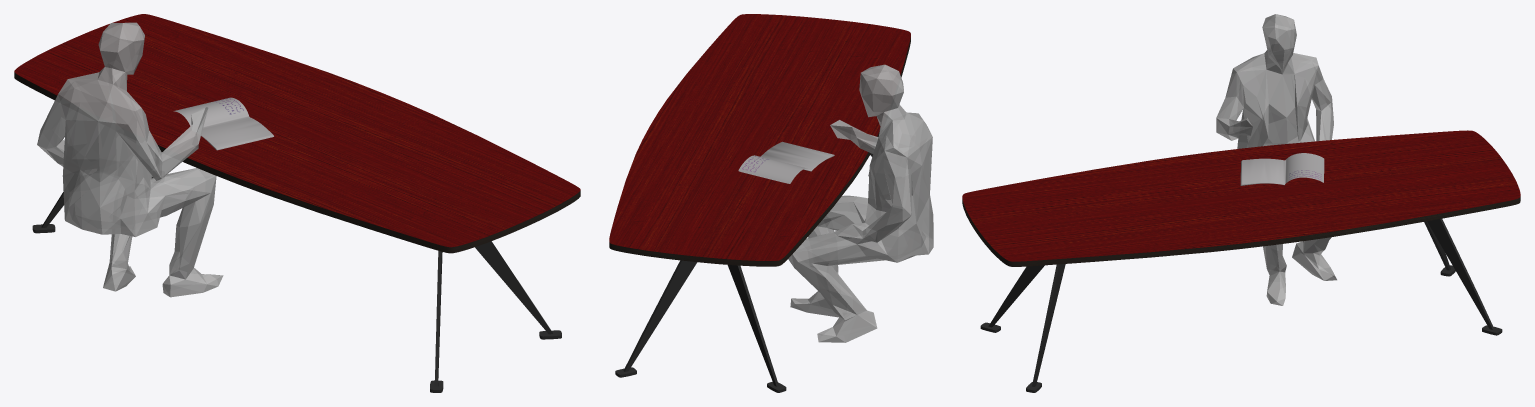
3 views of the same model, side by side, from view 1: azimuth 30°, elevation 25°; view 2: azimuth 150°, elevation 25°; view 3: azimuth 270°, elevation 25° (orthographic). The views are drawn at different scales.
Visible parts, largest first — view 1: Broers_Design_Nederland_1, Broers_Design_Nederland_2, Broers_Design_Nederland, Broers_Design_Nederland_3; view 2: Broers_Design_Nederland_1, Broers_Design_Nederland_2, Broers_Design_Nederland_4, Broers_Design_Nederland; view 3: Broers_Design_Nederland_1, Broers_Design_Nederland_2, Broers_Design_Nederland, Broers_Design_Nederland_3, Broers_Design_Nederland_4.
Boxes of the visible parts, x1=… form: Broers_Design_Nederland_1: x1=14, y1=14, x2=580, y2=253; Broers_Design_Nederland_2: x1=37, y1=22, x2=223, y2=297; Broers_Design_Nederland: x1=173, y1=97, x2=273, y2=150; Broers_Design_Nederland_3: x1=430, y1=241, x2=561, y2=392; Broers_Design_Nederland_1: x1=609, y1=14, x2=910, y2=266; Broers_Design_Nederland_2: x1=788, y1=64, x2=933, y2=342; Broers_Design_Nederland_4: x1=615, y1=260, x2=786, y2=392; Broers_Design_Nederland: x1=738, y1=141, x2=834, y2=183; Broers_Design_Nederland_1: x1=962, y1=130, x2=1520, y2=266; Broers_Design_Nederland_2: x1=1216, y1=14, x2=1336, y2=305; Broers_Design_Nederland: x1=1240, y1=153, x2=1324, y2=185; Broers_Design_Nederland_3: x1=980, y1=264, x2=1065, y2=392; Broers_Design_Nederland_4: x1=1424, y1=218, x2=1502, y2=335.
Bounding box in the file's own units: 1.88 × 1.4 × 2.83.
4 materials, 3 textured.
